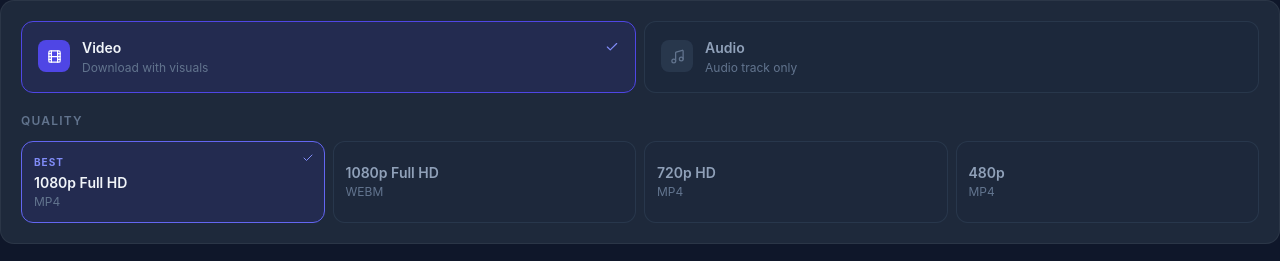
Scenario: FormatSelector — type toggle › shows a Format heading in audio mode
What coordinates should you click on to do the following:
click the radio button labelled "Audio Audio track only"
I would click on:
 (677, 56)
Its box is x1=644 y1=21 x2=1259 y2=93.
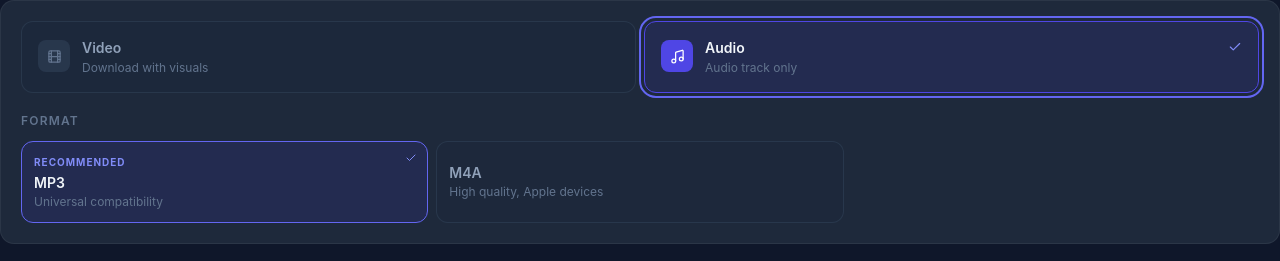
Expected: the text "Format" is shown, x1=21 y1=113 x2=79 y2=128
